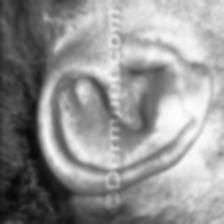Toxin: (128, 10, 224, 186), (37, 36, 105, 201)
